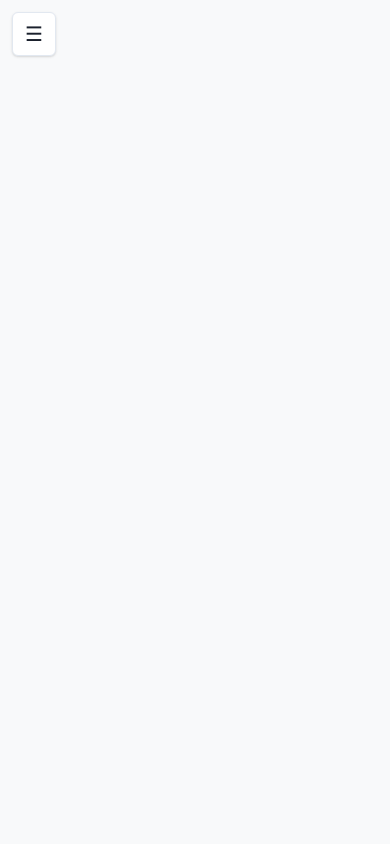
Scenario: Layout › clicking backdrop closes sidebar
Click the button named "open navigation menu" at {"x": 34, "y": 34}, box [12,12,56,56]
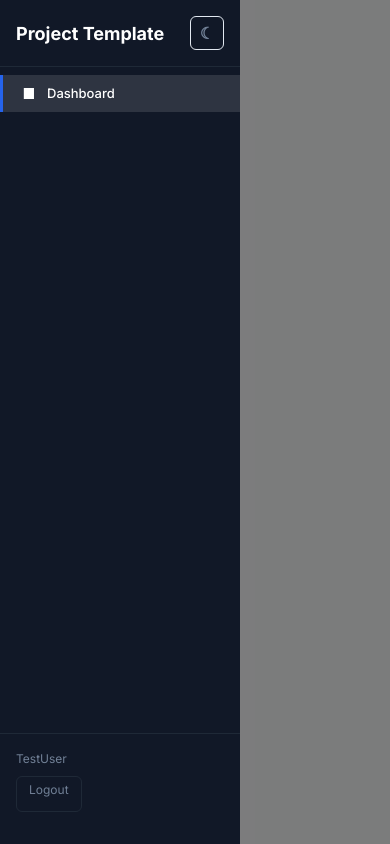
Result: the element with class "sidebar-backdrop" is shown
Click the element with class "sidebar-backdrop" at {"x": 367, "y": 422}, box [0,0,389,843]
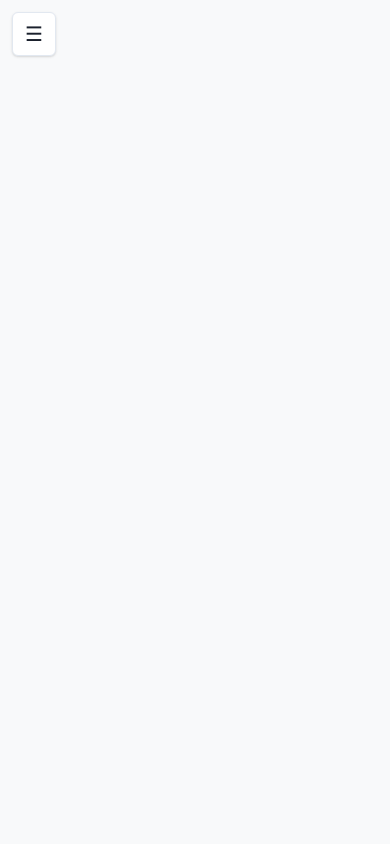
Result: the navigation bar with class "sidebar-open" is gone
